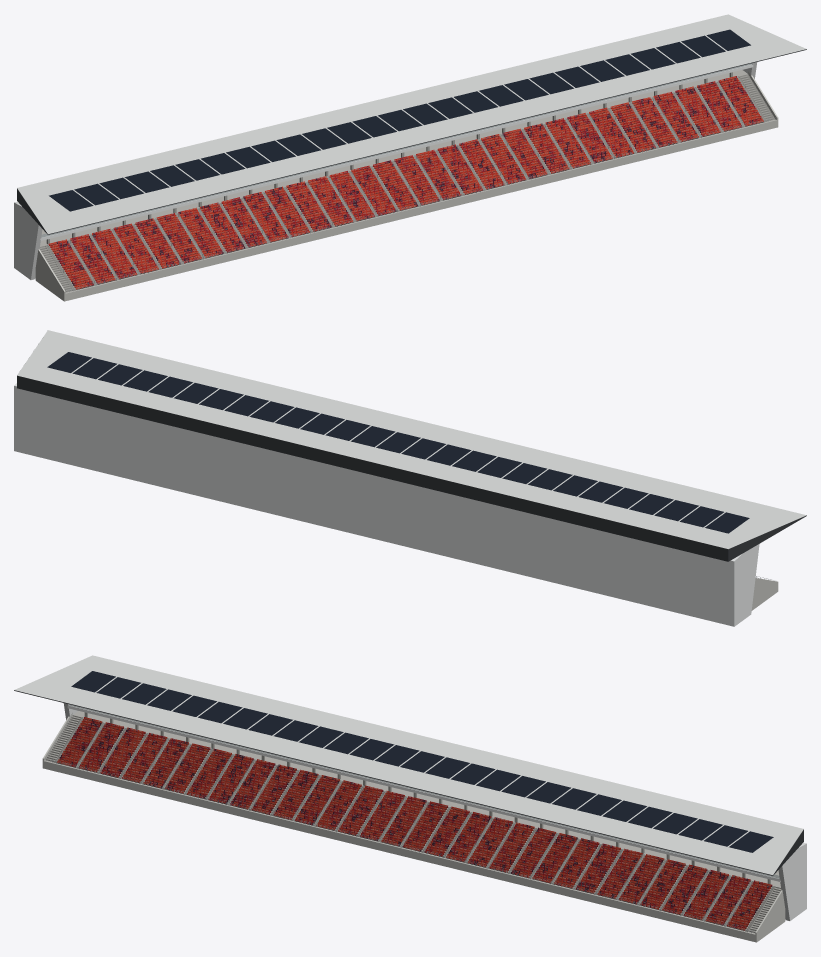
File: hun_stand_b.glb
3 views of the same model, one above another, from view 1: azimuth 30°, elevation 25°; view 2: azimuth 150°, elevation 25°; view 3: azimuth 330°, elevation 25° (orthographic).
Parts seen in each view (by area): view 1: hungaroring-main-stand; view 2: hungaroring-main-stand; view 3: hungaroring-main-stand.
Boxes of the visible parts, x1=… form: hungaroring-main-stand: x1=14, y1=14, x2=806, y2=301; hungaroring-main-stand: x1=14, y1=330, x2=806, y2=626; hungaroring-main-stand: x1=14, y1=655, x2=806, y2=942.
Size of the model in its own units: 288 by 28.23 by 36.06.
